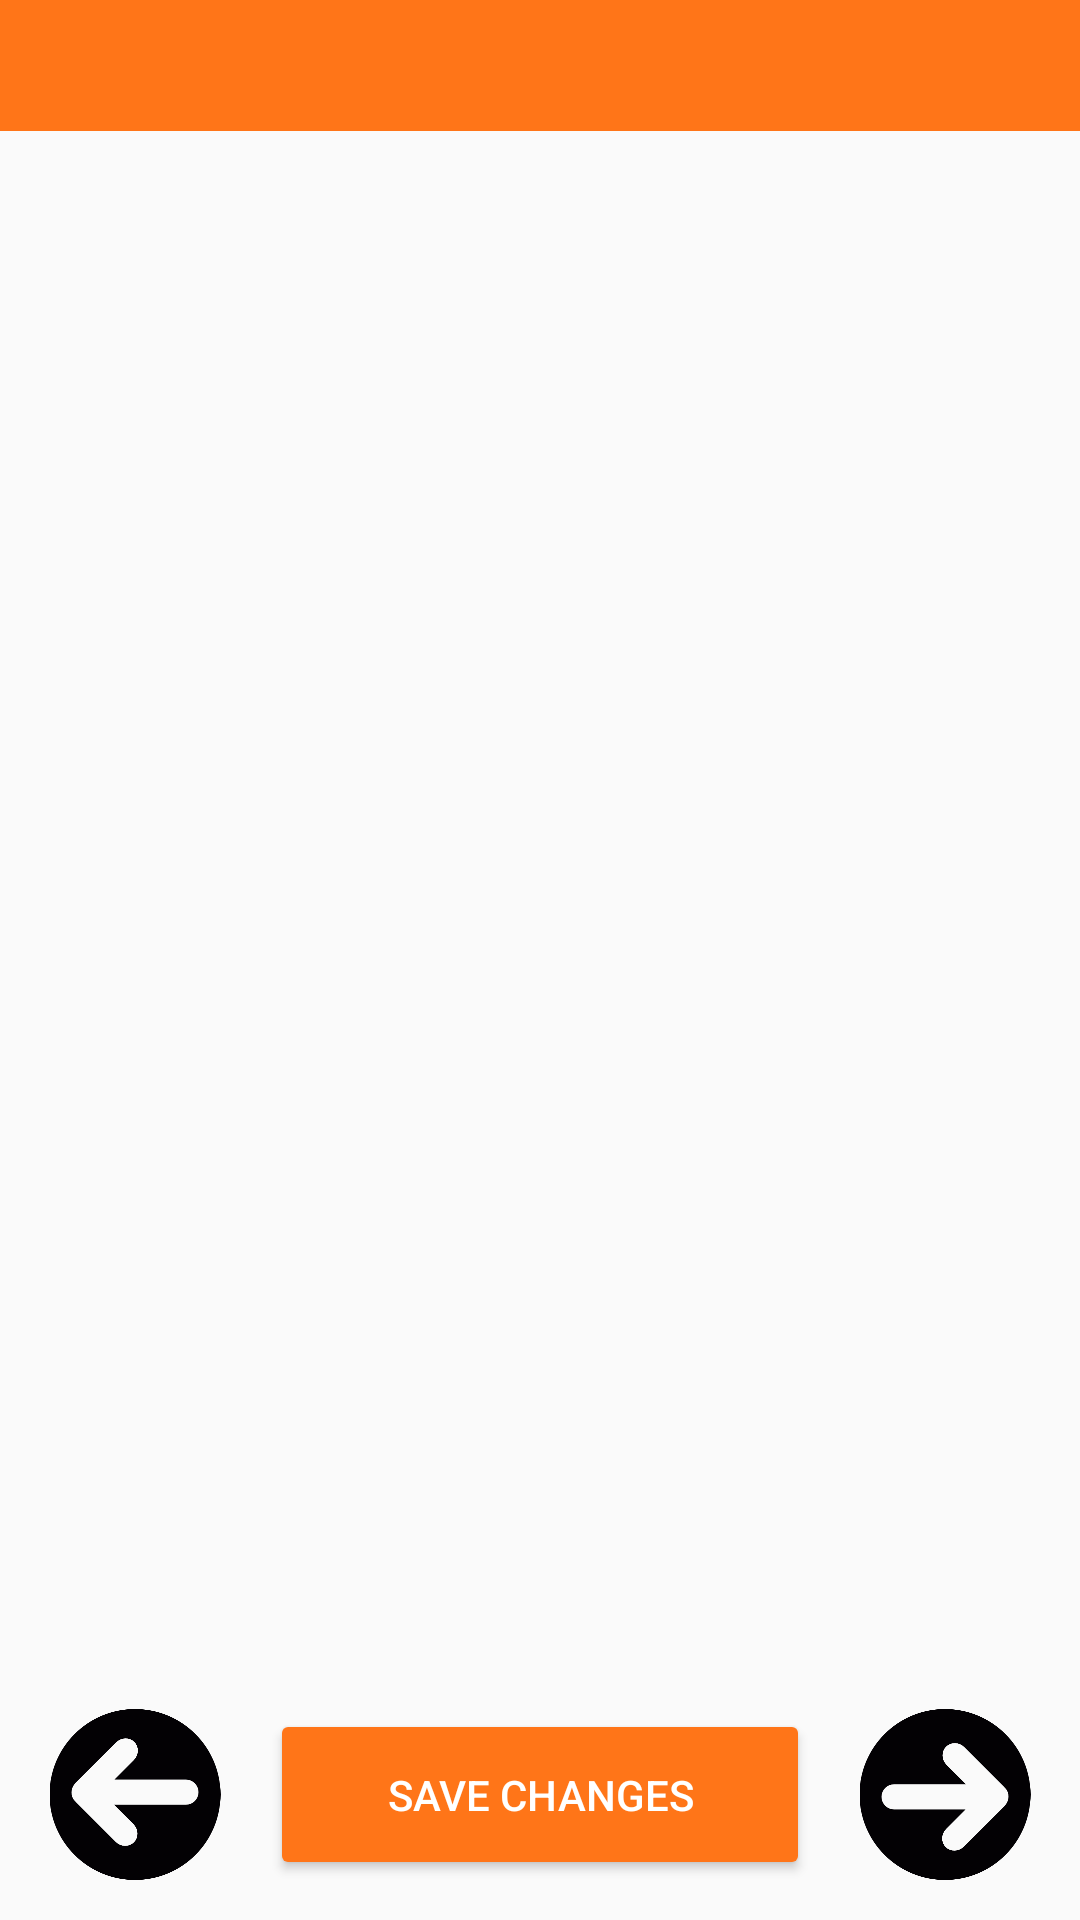

Named icons in this screenshot (1080w x 1920h) and their bounding boxes, (x1, y1, x2, y2):
left arrow: (50, 1709, 221, 1880)
right arrow: (860, 1709, 1031, 1880)
